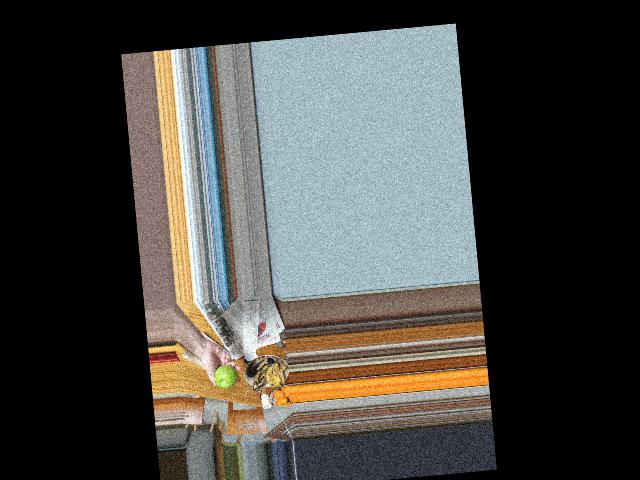apple: (213, 362, 238, 390)
